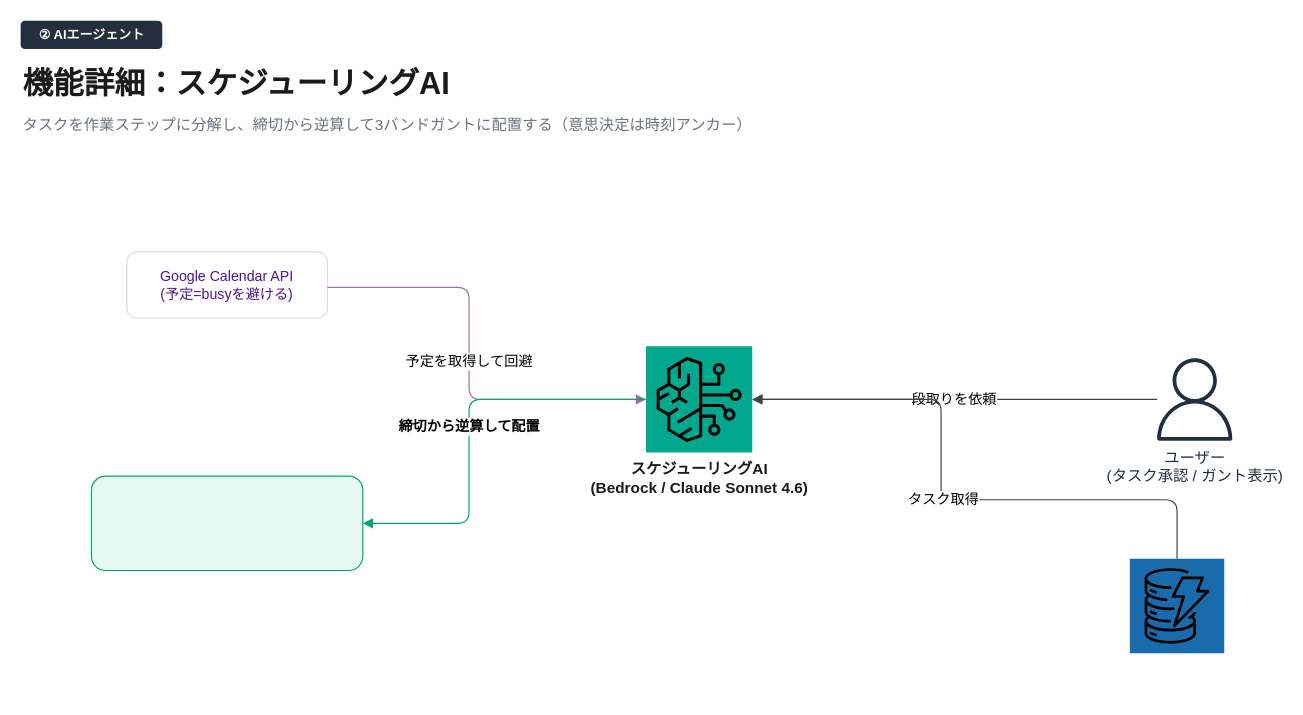
The diagram is 1303 pixels wide and 715 high, and some of its shapes have lost their labels. Here are the shapes that lost their labels. From the top down, the box of each, then its label:
(90, 475, 363, 571): 3バンドガント さぼろう / 作業 / 意思決定
(1129, 558, 1224, 653): Amazon DynamoDB (承認済みタスク + 確定ステップ)
